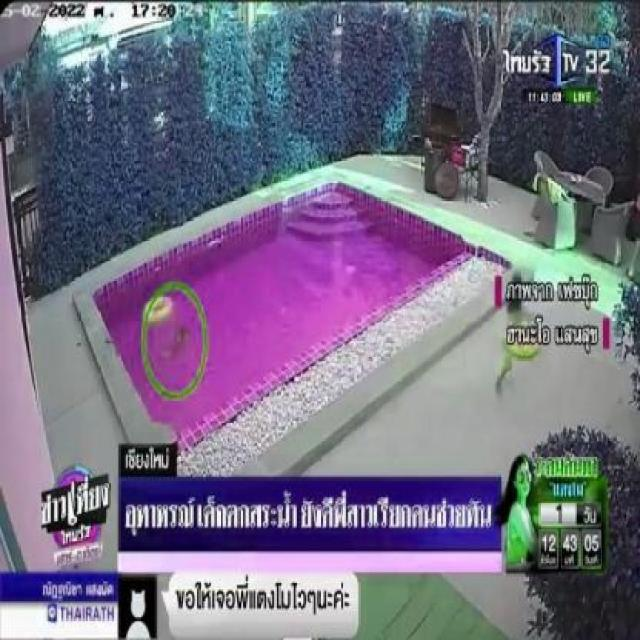drowning: (154, 322, 194, 367)
